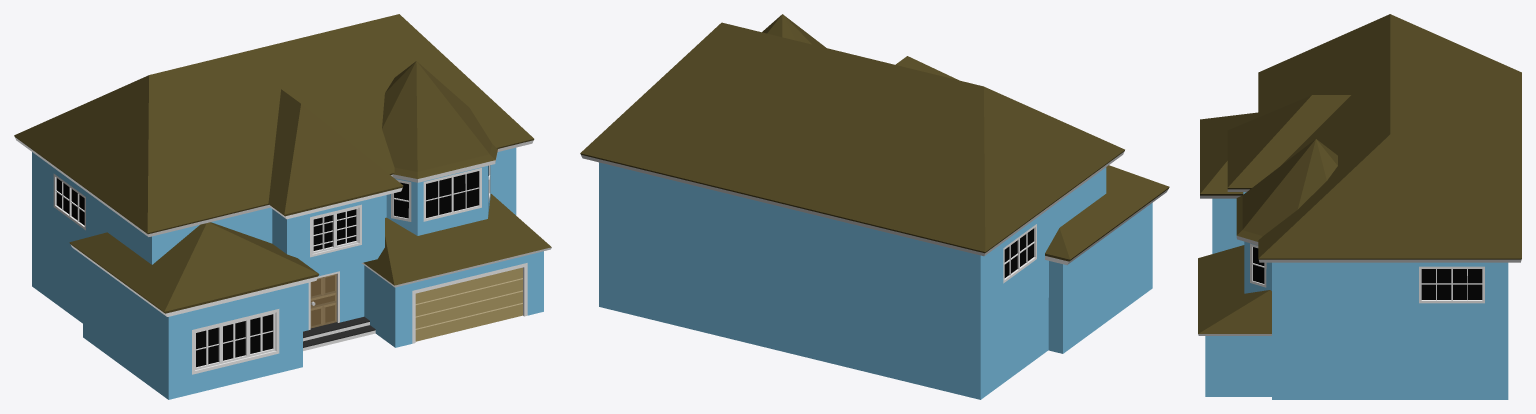
The model's file is House-29.fbx.
3 views of the same model, side by side, from view 1: azimuth 30°, elevation 25°; view 2: azimuth 150°, elevation 25°; view 3: azimuth 270°, elevation 25° (orthographic). The views are drawn at different scales.
Visible parts, largest first — view 1: House-20-c; view 2: House-20-c; view 3: House-20-c.
Boxes of the visible parts, x1,y1,x2,y2 form: House-20-c: [14, 14, 551, 399]; House-20-c: [580, 14, 1169, 399]; House-20-c: [1198, 14, 1521, 399].
Size of what is drawn, in the model's own units: 19.53 by 11.28 by 13.9.
